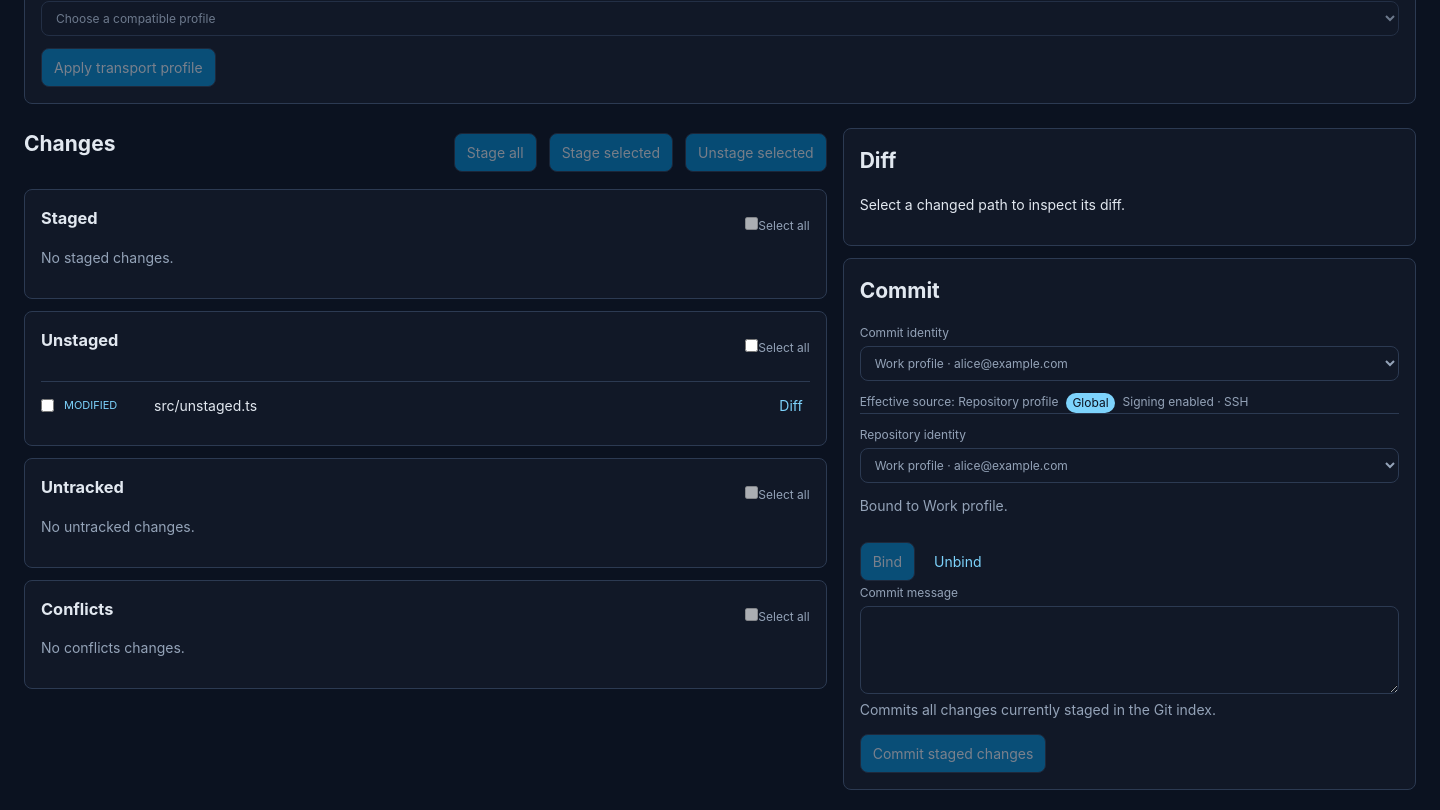
Test: RepositoryView › explains unavailable binary diff content
(page scrolled)
Step 1. Click the button with aria-label "View diff for src/unstaged.ts" → (791, 405), box [772,390,810,421]
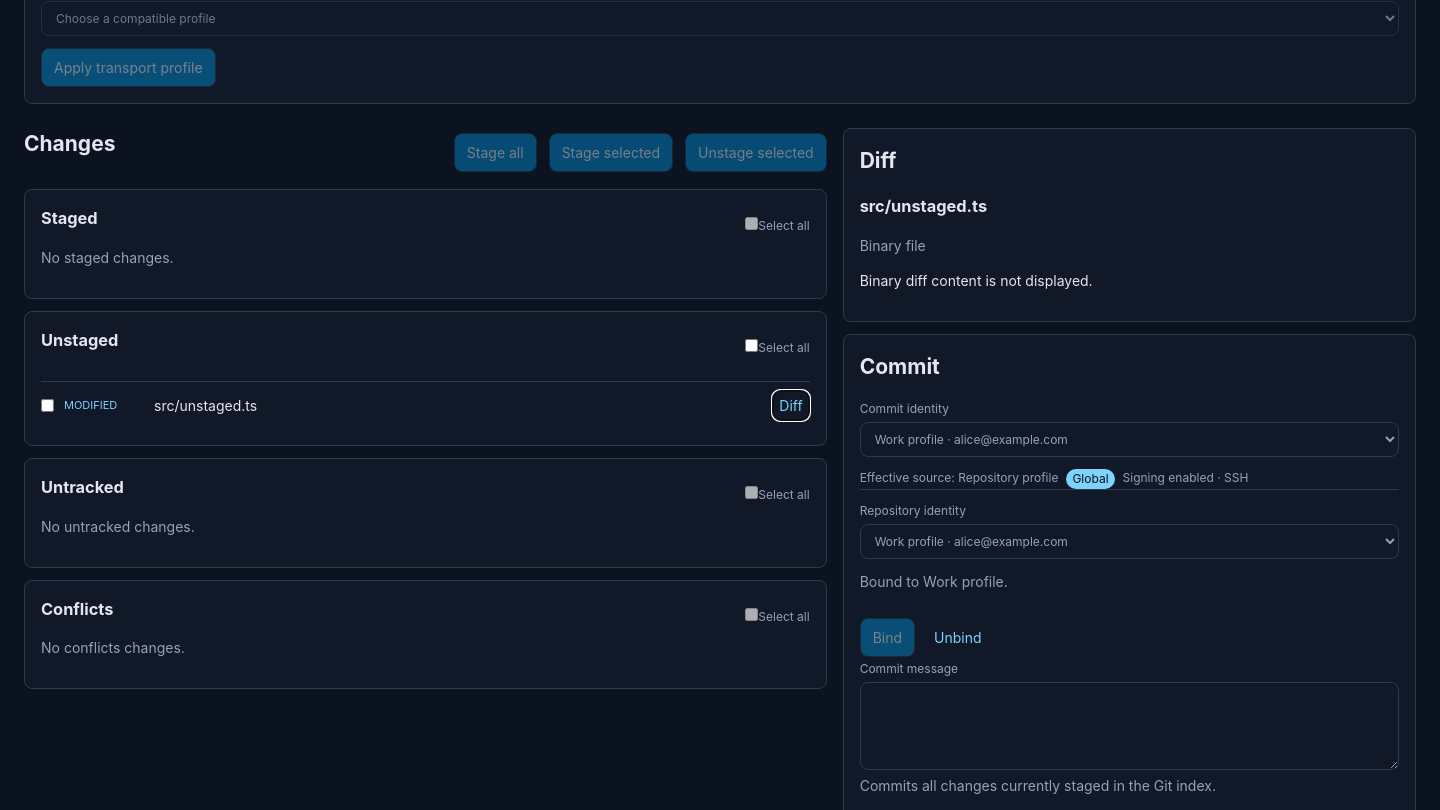
Check: the text "Binary diff content is not displayed." is shown, box [860,272,1093,289]
